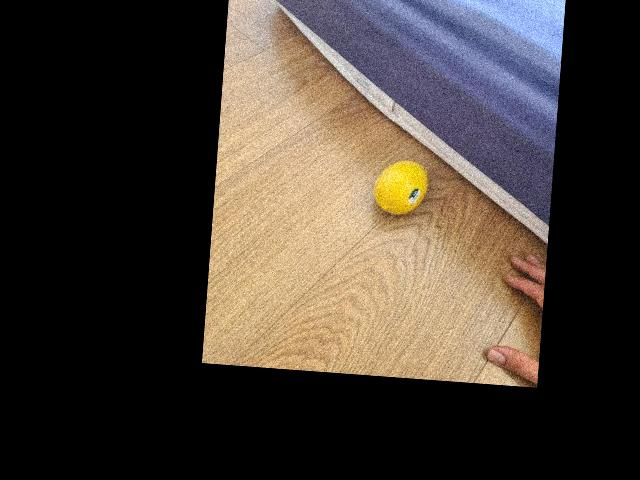lemon: (368, 159, 430, 219)
